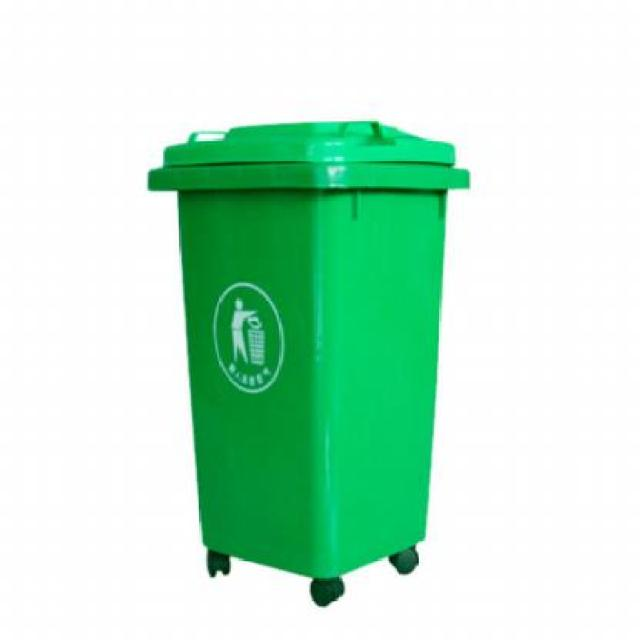garbage container: (134, 98, 492, 632)
